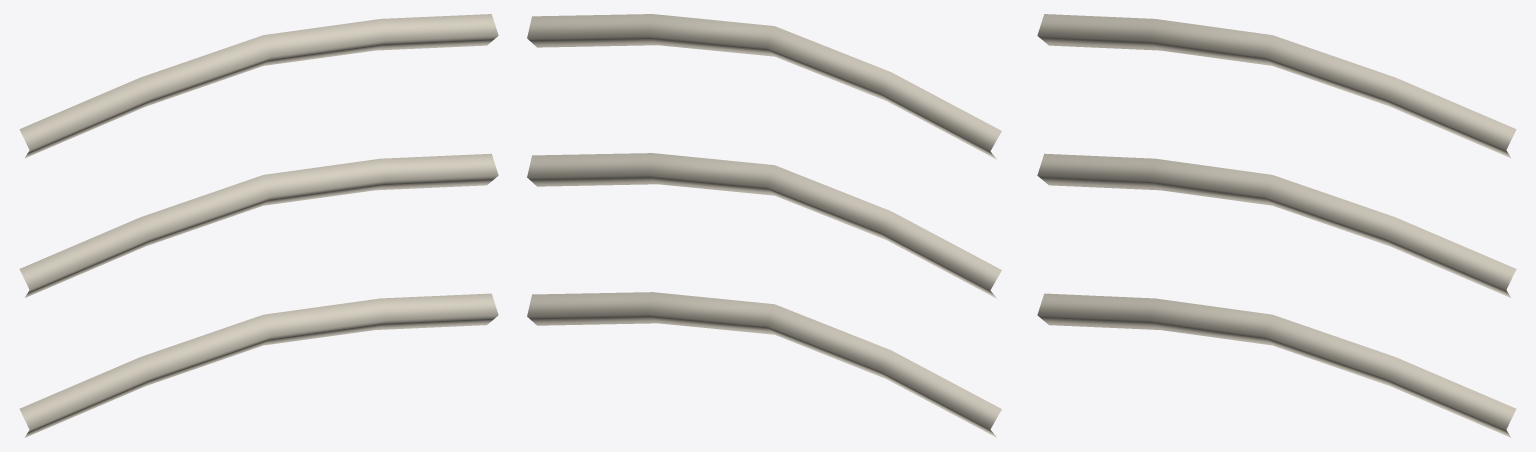
File: echo.glb
The picture shows the model from 3 angles, left to right: view 1: azimuth 30°, elevation 25°; view 2: azimuth 150°, elevation 25°; view 3: azimuth 330°, elevation 25°; orthographic projection.
Visible parts, largest first — view 1: echo; view 2: echo; view 3: echo.
Boxes of the visible parts, x1=… form: echo: x1=19, y1=14, x2=498, y2=437; echo: x1=527, y1=14, x2=1001, y2=437; echo: x1=1037, y1=14, x2=1516, y2=437.
Bounding box in the file's own units: 0.3183 × 0.2267 × 0.0288.
